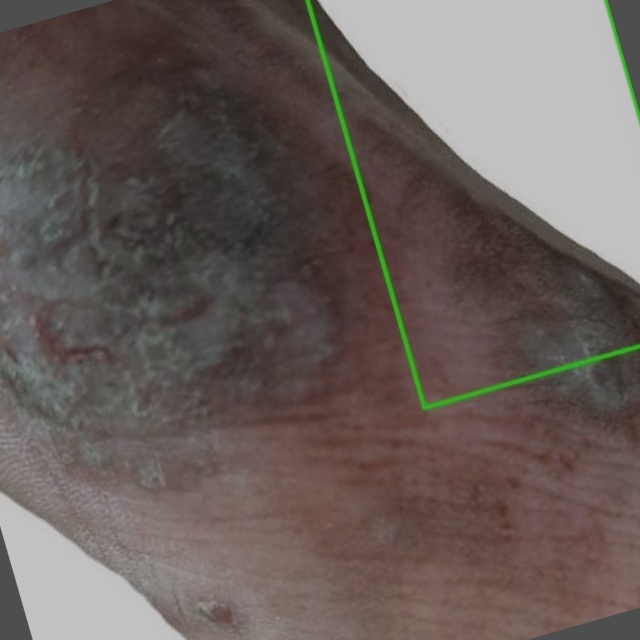Contact Dermatitis: (307, 0, 639, 408)
